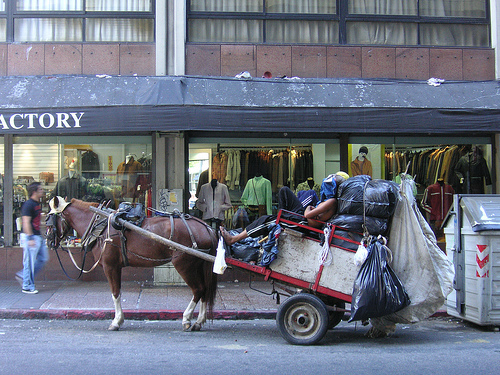horse: (44, 195, 235, 331)
